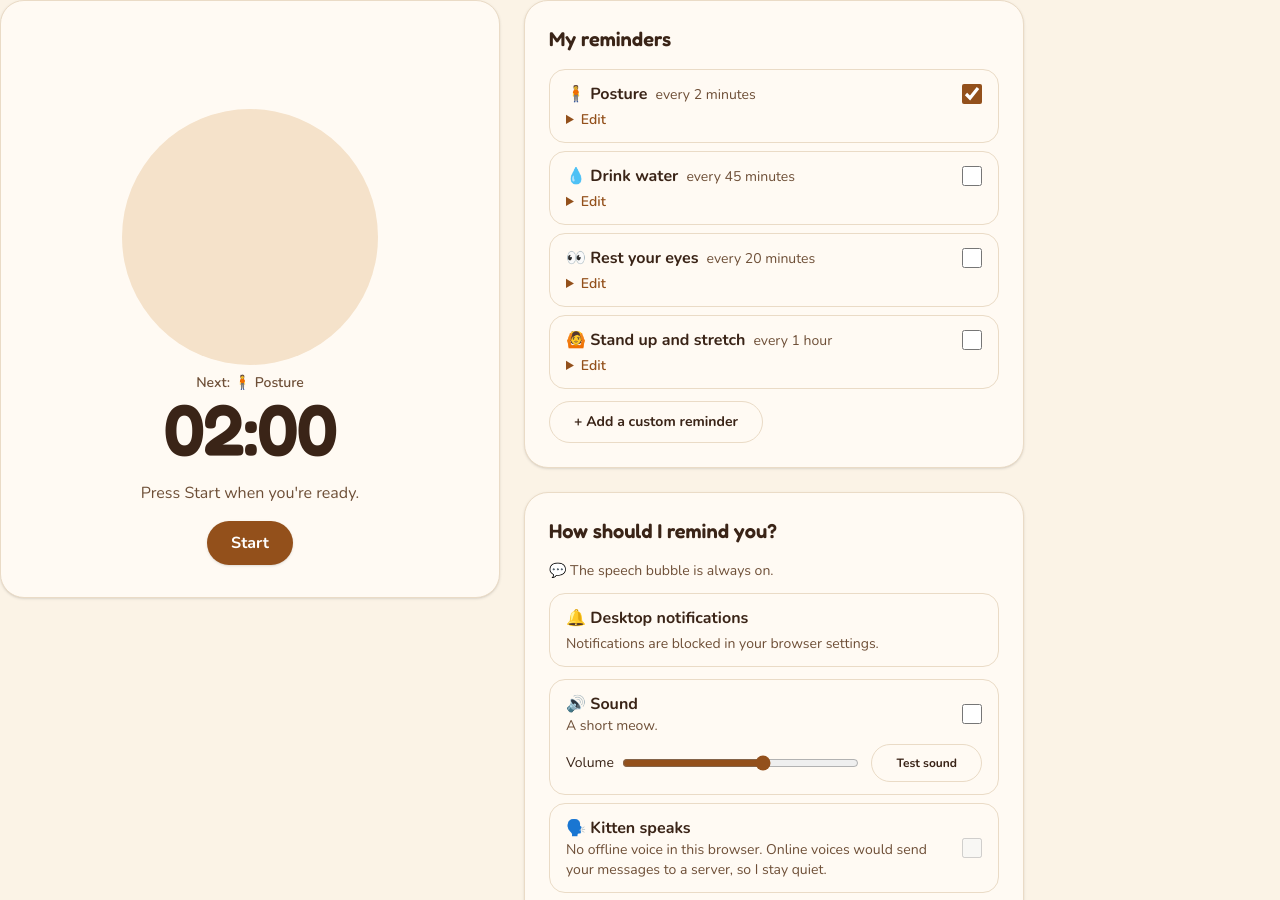
saving › moves settings from before custom reminders into the posture reminder
Click the heading "Edit" below "2 minutes": (593, 120) x1=581 y1=110 x2=606 y2=129
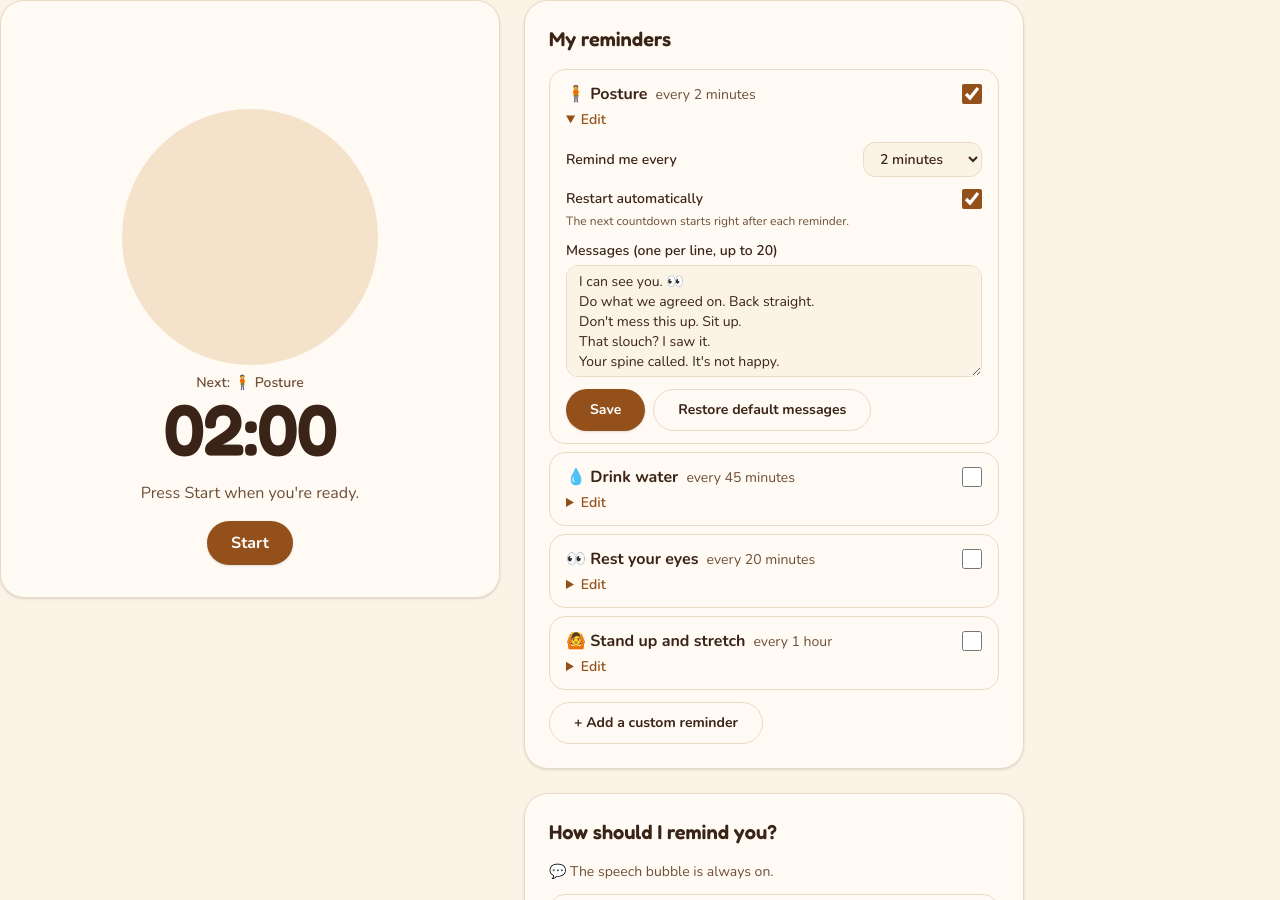
expect the switch labelled "Restart automatically" is checked: met, box x1=962 y1=189 x2=982 y2=209
